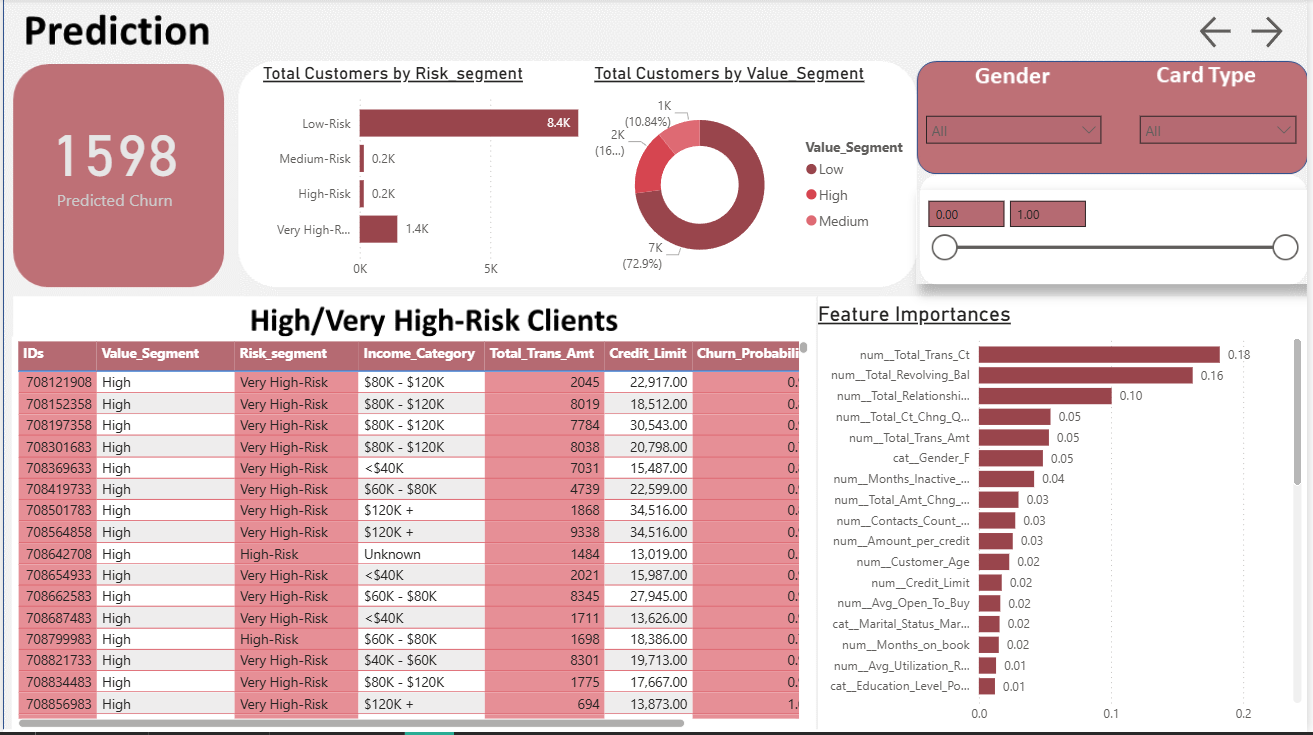

Layout of this report page (visuals, bound fields, positions):
{"tool":"powerbi","page":{"name":"Prediction","canvas":[1280,720],"ordinal":1},"visuals":[{"type":"card","fields":{"Values":["Sum(Prediction.Predicted_Churn)"]},"box":[8.6,81,202.5,153.4],"z":0},{"type":"tableEx","fields":{"Values":["Prediction.IDs","Prediction.Value_Segment","Prediction.Risk_segment","Prediction.Income_Category","Prediction.Total_Trans_Amt","Prediction.Credit_Limit","Prediction.Churn_Probability","Prediction.Predicted_Churn"]},"box":[8.6,331.3,786.5,389],"z":1000},{"type":"slicer","fields":{"Values":["Prediction.Card_Category"]},"box":[1105.5,104.3,174.2,57.7],"z":2000},{"type":"slicer","fields":{"Values":["Prediction.Gender"]},"box":[895.7,104.3,192.6,57.7],"z":3000},{"type":"clusteredBarChart","fields":{"Category":["Risk Segment sort.Risk_segment"],"Y":["measures (2).Total Customers"]},"box":[250.3,62.6,349.7,220.9],"z":4000},{"type":"donutChart","fields":{"Category":["Prediction.Value_Segment"],"Y":["measures (2).Total Customers"]},"box":[575.5,62.6,320.2,220.9],"z":5000},{"type":"clusteredBarChart","title":"Feature Importances","fields":{"Category":["feature_importance.Feature"],"Y":["Sum(feature_importance.Importance)"]},"box":[795.1,296.9,484.7,423.3],"z":6000},{"type":"slicer","fields":{"Values":["Prediction.Churn_Probability"]},"box":[895.7,187.7,384.1,92],"z":7000},{"type":"actionButton","box":[1219.6,12.3,60.1,40.5],"z":8000},{"type":"actionButton","box":[1170.6,12.3,45.4,40.5],"z":9000}]}

Visuals, with their boxes in screenshot pixels (x1, y1, x2, y2), scaled from the page's 1280x720 canvas onto the 1313x735 screenshot:
card - Sum(Prediction.Predicted_Churn): (left=9, top=83, right=217, bottom=239)
tableEx - Prediction.IDs x Prediction.Value_Segment: (left=9, top=338, right=816, bottom=734)
slicer - Prediction.Card_Category: (left=1134, top=106, right=1312, bottom=165)
slicer - Prediction.Gender: (left=919, top=106, right=1116, bottom=165)
clusteredBarChart - Risk Segment sort.Risk_segment x measures (2).Total Customers: (left=257, top=64, right=615, bottom=289)
donutChart - Prediction.Value_Segment x measures (2).Total Customers: (left=590, top=64, right=919, bottom=289)
"Feature Importances" clusteredBarChart: (left=816, top=303, right=1312, bottom=734)
slicer - Prediction.Churn_Probability: (left=919, top=192, right=1312, bottom=286)
actionButton: (left=1251, top=13, right=1312, bottom=54)
actionButton: (left=1201, top=13, right=1247, bottom=54)
